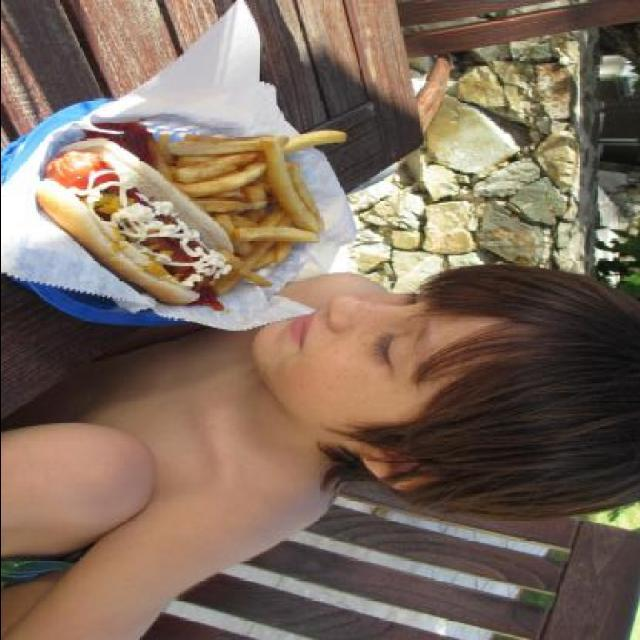Hot dog: (36, 120, 256, 300)
